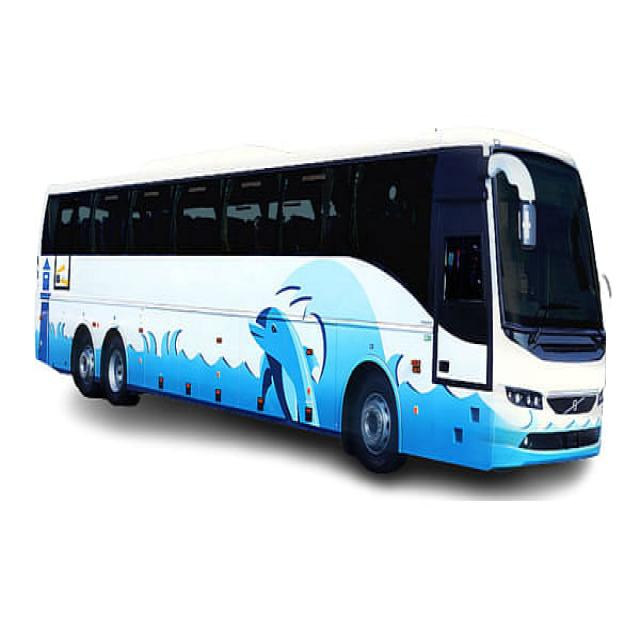bus: (36, 131, 605, 472)
